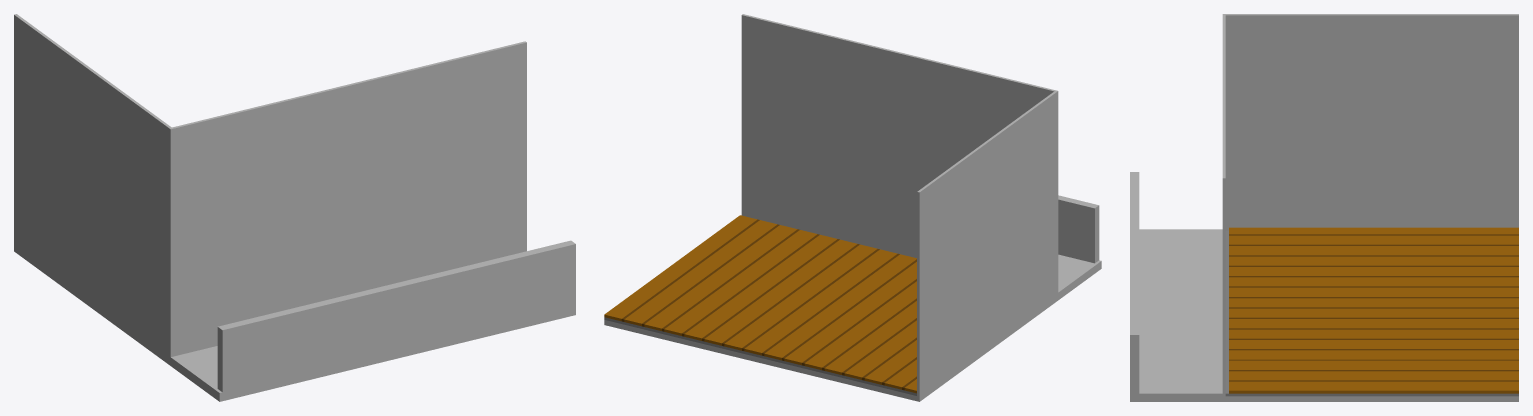
Rendered from 4x2 second (2)-1.obj.
3 renders of one model, left to right at view 1: azimuth 30°, elevation 25°; view 2: azimuth 150°, elevation 25°; view 3: azimuth 270°, elevation 25°, orthographic. The views are drawn at different scales.
Visible parts, largest first — view 1: 4x2 second (2)-1; view 2: 4x2 second (2)-1; view 3: 4x2 second (2)-1.
Part boxes in pixels (x1=…): 4x2 second (2)-1: x1=14, y1=14, x2=575, y2=401; 4x2 second (2)-1: x1=604, y1=14, x2=1101, y2=401; 4x2 second (2)-1: x1=1130, y1=14, x2=1518, y2=401.
Size of the model in its own units: 126 by 80 by 126.
Materials: 1 (1 with a texture image).
